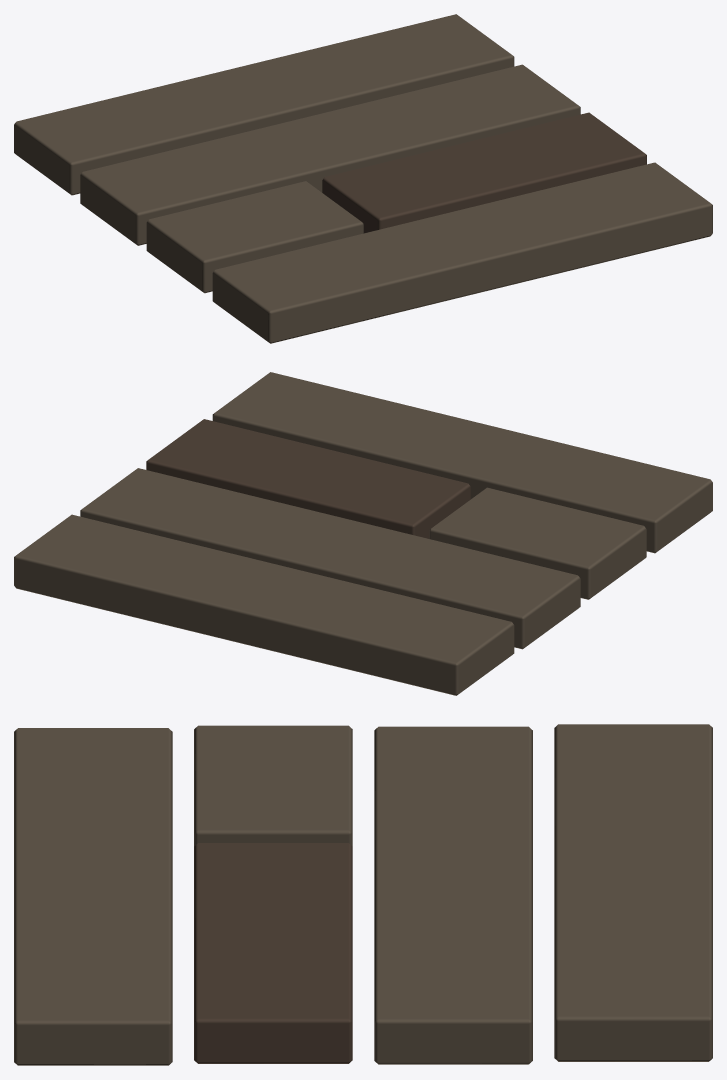
File: ghost-town-boardwalk-c.d7f69193.glb
3 renders of one model, top to bottom at view 1: azimuth 30°, elevation 25°; view 2: azimuth 150°, elevation 25°; view 3: azimuth 270°, elevation 25°, orthographic. The views are drawn at different scales.
Visible parts, largest first — view 1: body; view 2: body; view 3: body.
Boxes of the visible parts, x1,y1,x2,y2 form: body: (14, 14, 712, 343); body: (14, 372, 712, 695); body: (14, 724, 712, 1065).
Size of the model in its own units: 0.9705 by 0.076 by 0.97.
